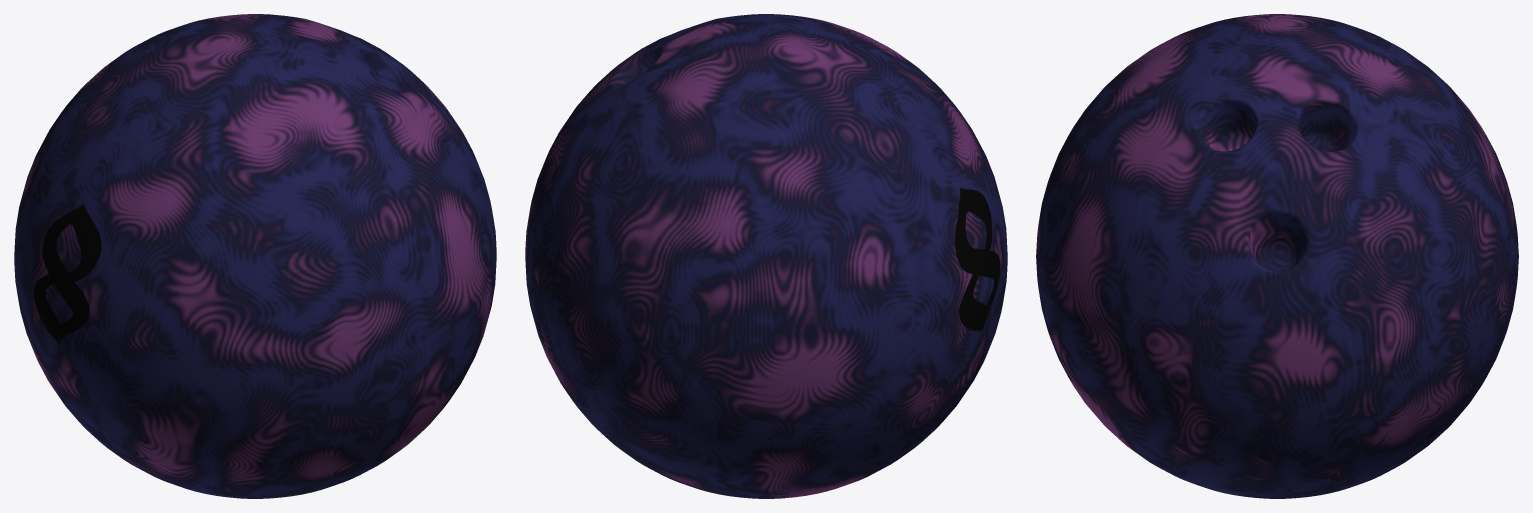
The model's file is Ball2_space1.fbx.
3 views of the same model, side by side, from view 1: azimuth 30°, elevation 25°; view 2: azimuth 150°, elevation 25°; view 3: azimuth 270°, elevation 25° (orthographic).
Visible parts, largest first — view 1: bowling ball; view 2: bowling ball; view 3: bowling ball.
Part boxes in pixels (x1,y1,x2,y2): bowling ball: (14,14,496,498); bowling ball: (525,14,1007,498); bowling ball: (1036,14,1518,498).
Bounding box in the file's own units: 22.72 × 22.72 × 22.96.
1 material, 1 textured.
